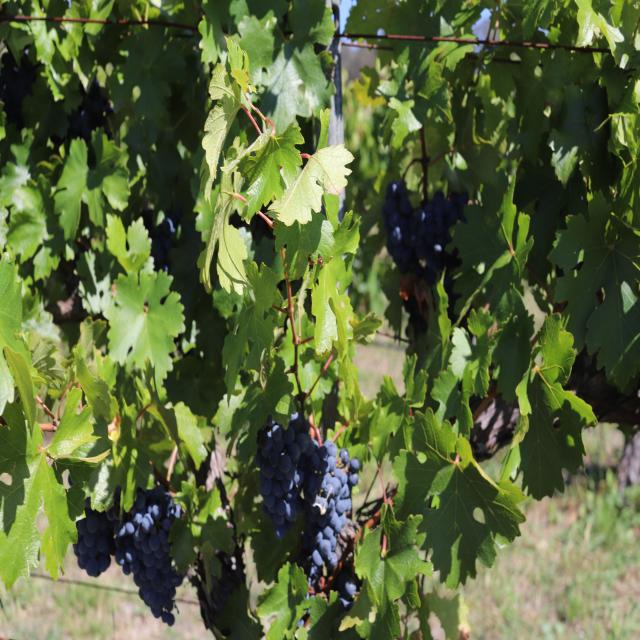grapes: (254, 412, 360, 584), (73, 485, 183, 625), (382, 181, 468, 284)
